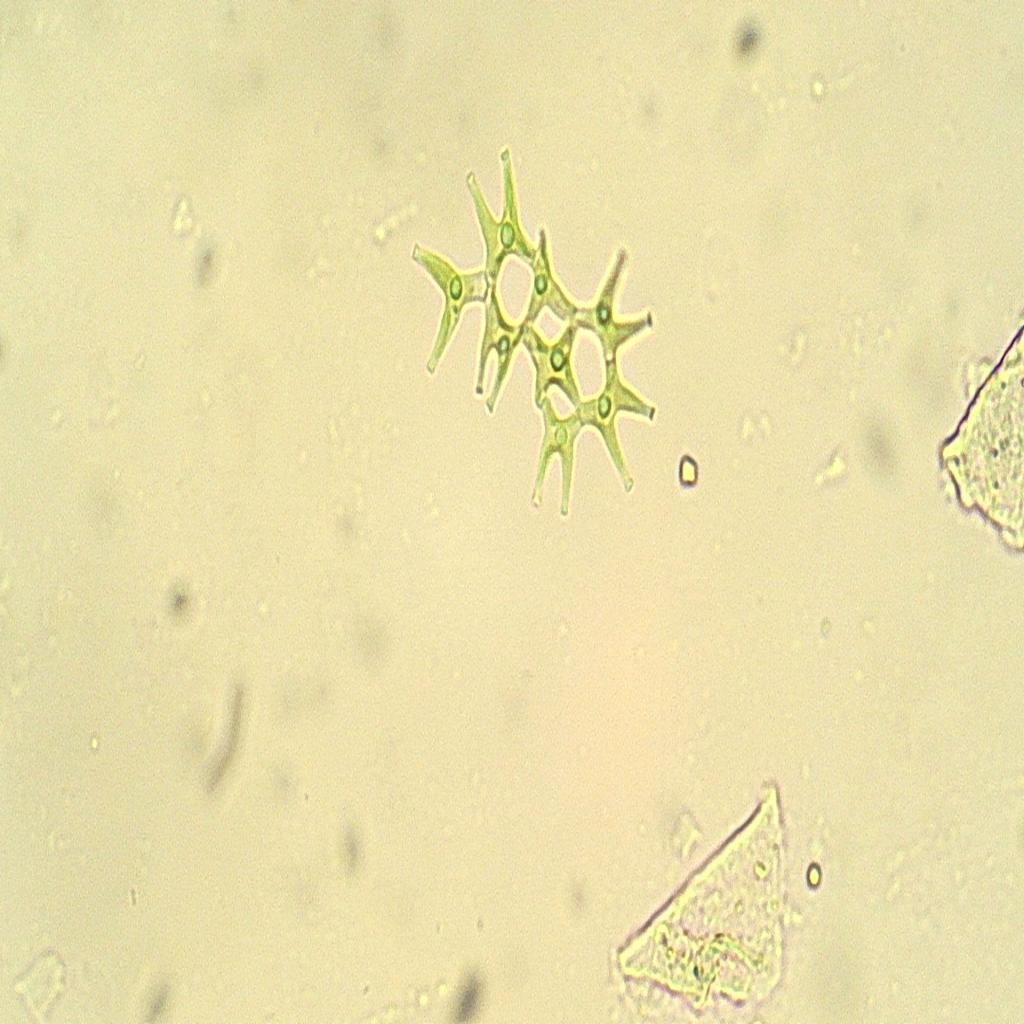Pediastrum_1TH: (394, 121, 672, 535)
